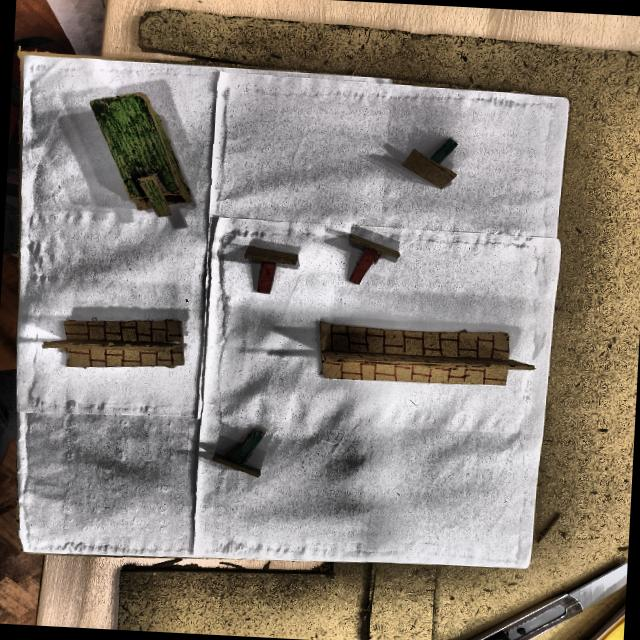Dead soldier -enemy-: (345, 230, 403, 287), (242, 240, 300, 297)
Dead soldier -frd-: (201, 415, 281, 481), (399, 138, 461, 190)
Tank: (89, 92, 194, 220)
Wall: (315, 321, 532, 388), (44, 320, 186, 370)
